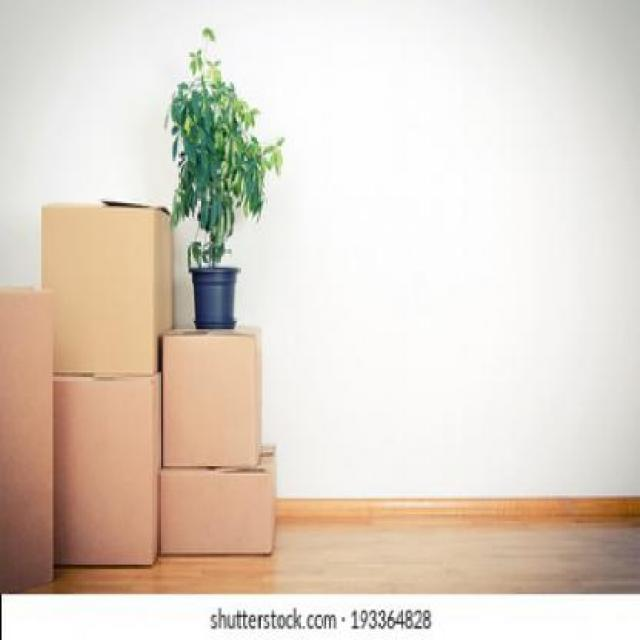box: (47, 203, 173, 377), (55, 373, 164, 564), (2, 286, 54, 596), (159, 319, 262, 469), (159, 452, 280, 558)
